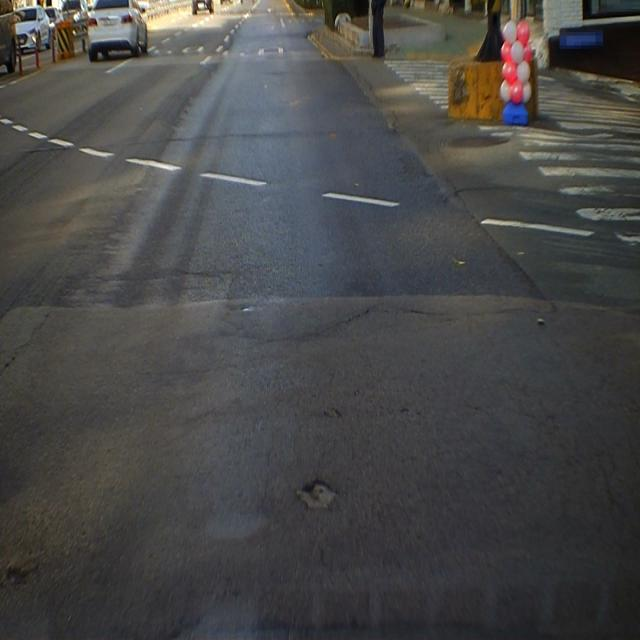Pothole: (292, 469, 347, 522)
